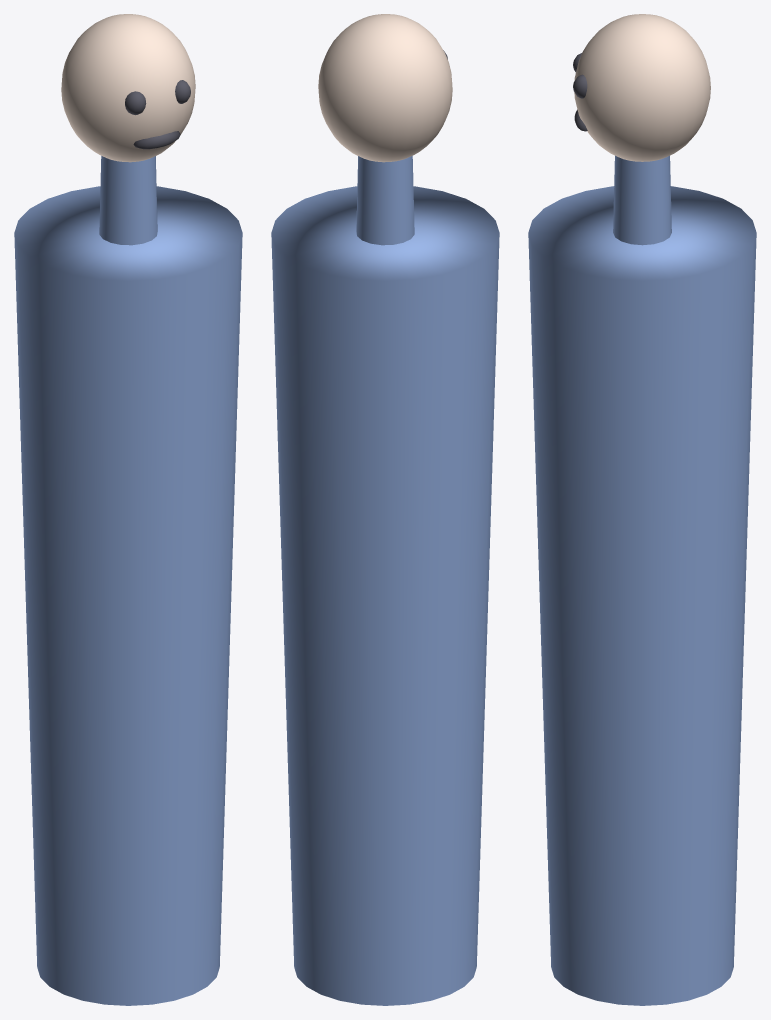
The picture shows the model from 3 angles, left to right: view 1: azimuth 30°, elevation 25°; view 2: azimuth 150°, elevation 25°; view 3: azimuth 270°, elevation 25°; orthographic projection.
Visible parts, largest first — view 1: Body, Head; view 2: Body, Head; view 3: Body, Head.
Part boxes in pixels (x1,y1,x2,y2): Body: [14, 156, 242, 1005]; Head: [61, 14, 195, 162]; Body: [271, 156, 499, 1005]; Head: [318, 14, 452, 162]; Body: [528, 155, 756, 1005]; Head: [574, 14, 710, 161].
Size of the model in its own units: 0.4 by 1.83 by 0.4.
